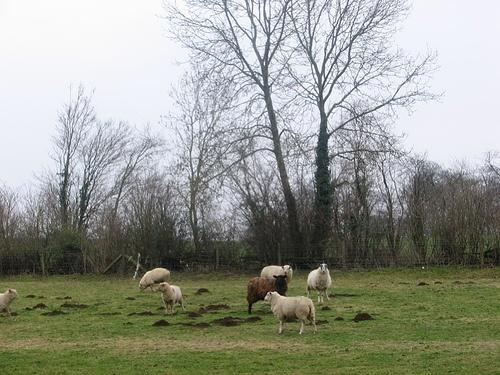sheep: (264, 292, 320, 337), (245, 275, 286, 313), (309, 264, 334, 302), (162, 283, 187, 316), (142, 268, 173, 291), (264, 263, 291, 289), (1, 288, 21, 318)
